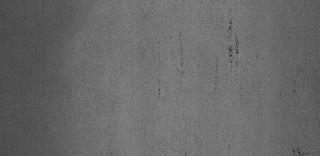inclusion: (155, 29, 187, 98), (288, 65, 306, 99), (289, 145, 305, 155)
oil spot: (225, 40, 245, 68), (225, 18, 238, 38)
